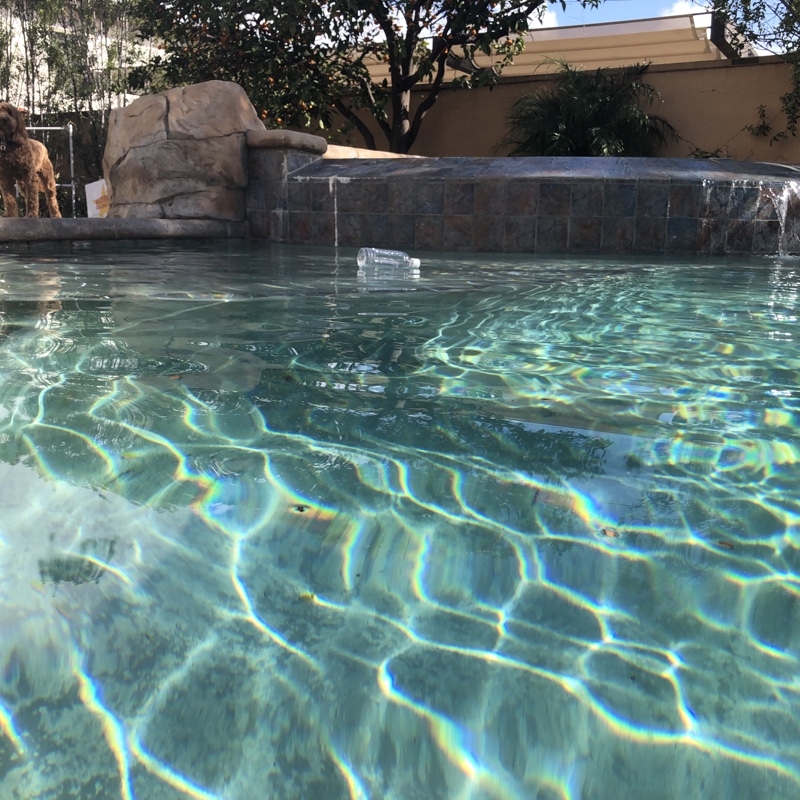Plastic Bottle: (355, 245, 422, 275)
